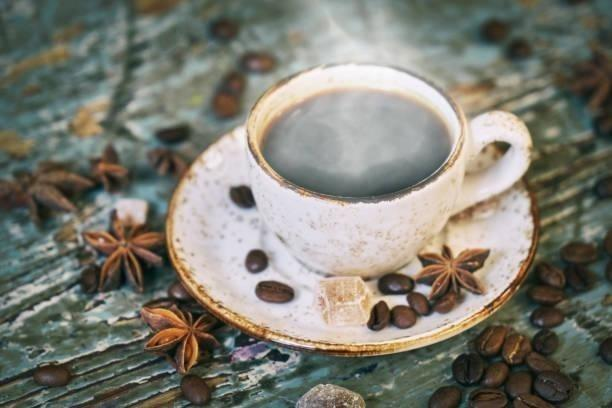cup-handle: (243, 59, 532, 280)
